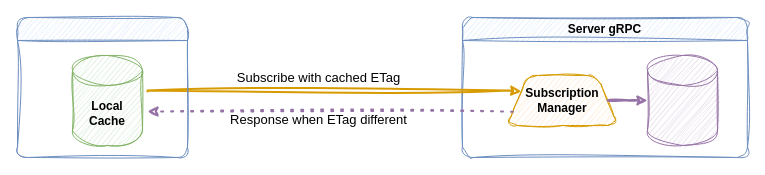
This 765x175 diagram has some shape labels left out. Here are the shapes that lost their labels. From the top down, the box of each, then its label:
(16, 16, 188, 158): Client gRPC
(646, 54, 718, 146): Data Cache
